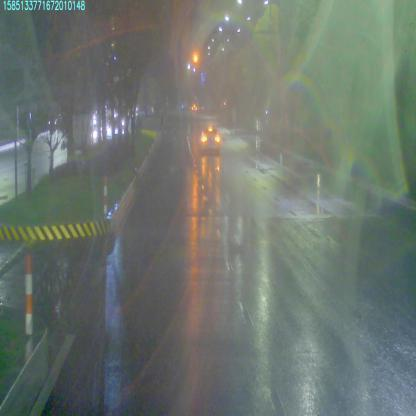traffic-light: (191, 52, 199, 64)
